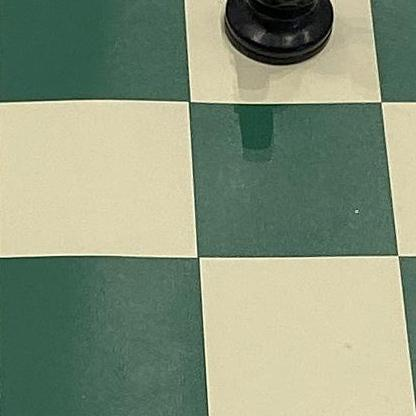black-knight: (217, 0, 338, 65)
